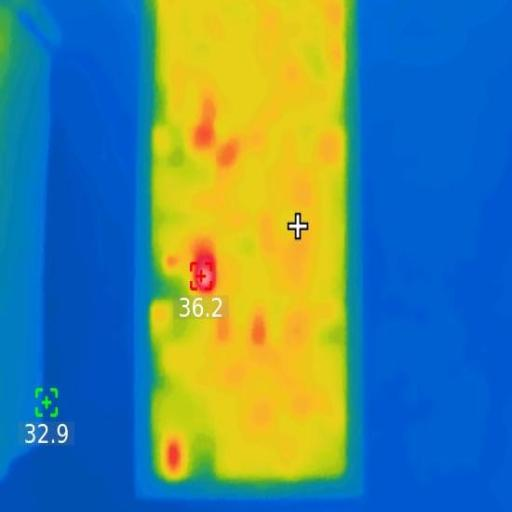hotspot: (189, 247, 218, 292), (167, 442, 181, 476)
